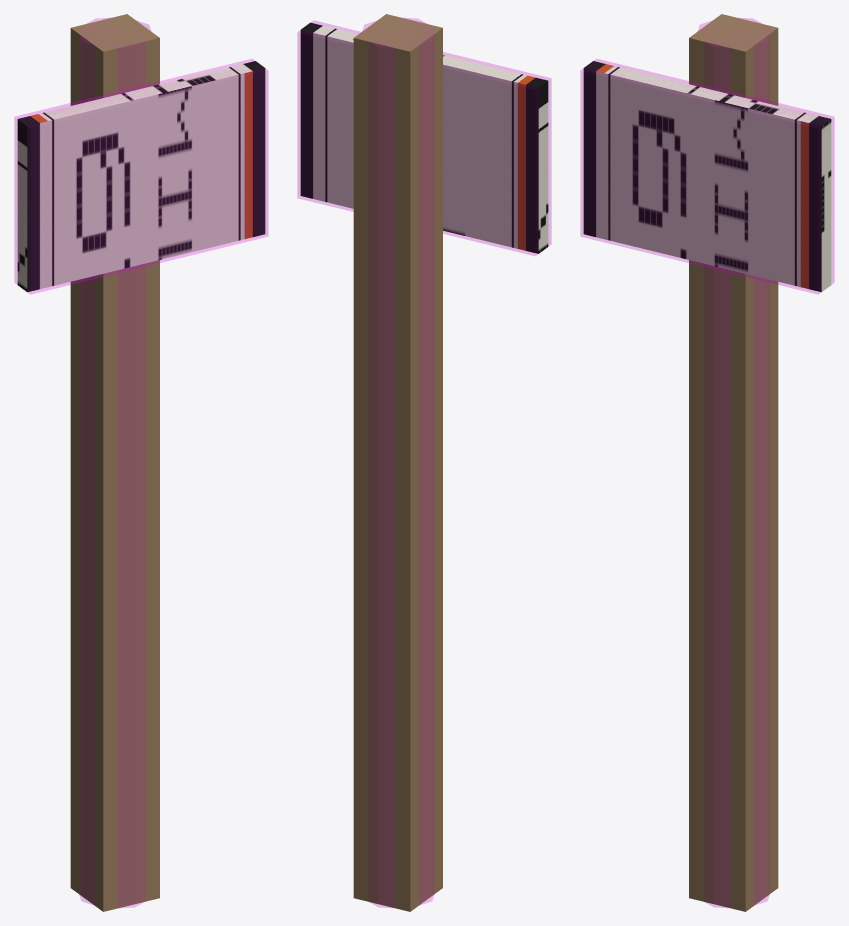
The model's file is milemarker_067.dae.
3 renders of one model, left to right at view 1: azimuth 30°, elevation 25°; view 2: azimuth 150°, elevation 25°; view 3: azimuth 330°, elevation 25°, orthographic.
Visible parts, largest first — view 1: post, sign, Colmesh_sign-1, Colmesh_post-1; view 2: post, Colmesh_post-1, sign, Colmesh_sign-1; view 3: post, sign, Colmesh_sign-1, Colmesh_post-1.
Part boxes in pixels (bbox=[...]): post: bbox=[70, 14, 159, 911]; sign: bbox=[17, 61, 265, 292]; Colmesh_sign-1: bbox=[14, 59, 268, 294]; Colmesh_post-1: bbox=[79, 18, 150, 907]; post: bbox=[353, 14, 442, 911]; Colmesh_post-1: bbox=[362, 18, 433, 907]; sign: bbox=[300, 22, 548, 253]; Colmesh_sign-1: bbox=[297, 20, 551, 255]; post: bbox=[689, 14, 778, 911]; sign: bbox=[583, 61, 831, 292]; Colmesh_sign-1: bbox=[580, 59, 834, 294]; Colmesh_post-1: bbox=[698, 18, 769, 907].
Size of the model in its own units: 0.42 by 0.165 by 1.45.
Materials: 3 (1 with a texture image).
